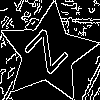Z: (23, 28, 77, 82)
